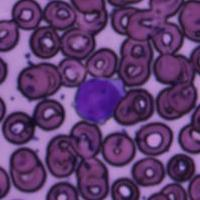L: (74, 76, 127, 123)
